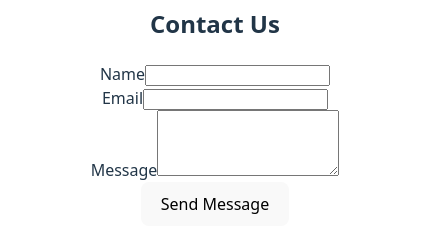
ContactForm Component › shows validation errors when form is submitted with empty fields
Click the button with test id "submit-button": (215, 204) [141,182,289,226]
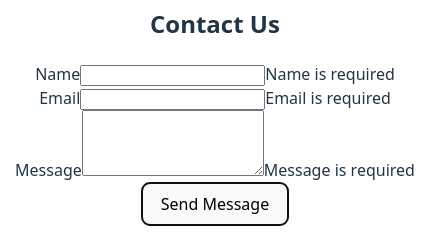
Expected: the text with test id "name-error" reads "Name is required", [265,63,395,85]
Expected: the text with test id "email-error" reads "Email is required", [265,87,391,109]
Expected: the text with test id "message-error" reads "Message is required", [264,159,415,181]
